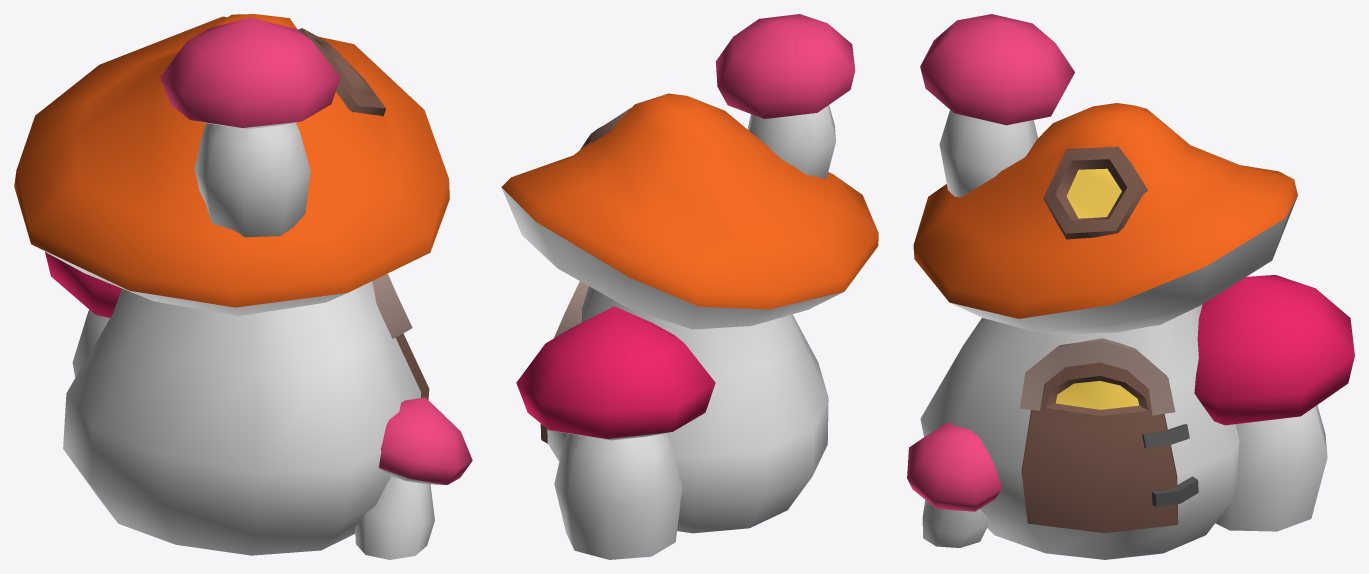
Rendered from house_001.glb.
3 renders of one model, left to right at view 1: azimuth 30°, elevation 25°; view 2: azimuth 150°, elevation 25°; view 3: azimuth 270°, elevation 25°, orthographic. The views are drawn at different scales.
Parts seen in each view (by area): view 1: house_001; view 2: house_001; view 3: house_001.
Boxes of the visible parts, x1,y1,x2,y2 form: house_001: (14, 14, 472, 559); house_001: (501, 14, 878, 559); house_001: (907, 14, 1354, 559).
Bounding box in the file's own units: 3.22 × 4.22 × 3.68.
1 material, 1 textured.
